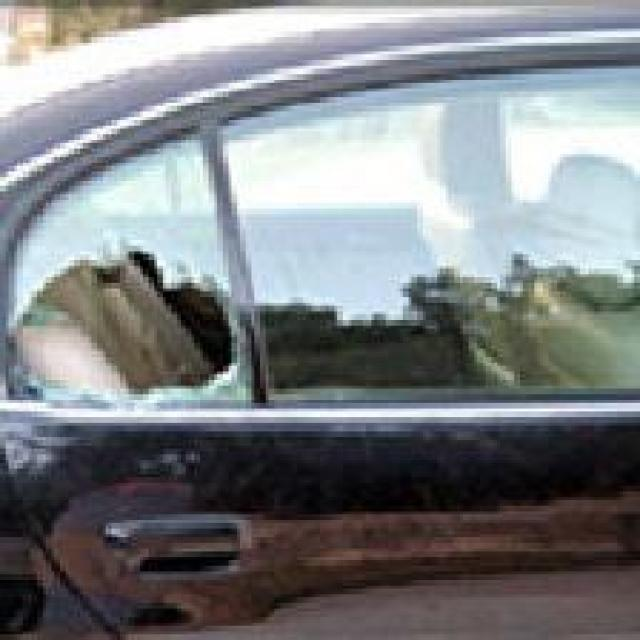damaged: (2, 240, 258, 414)
